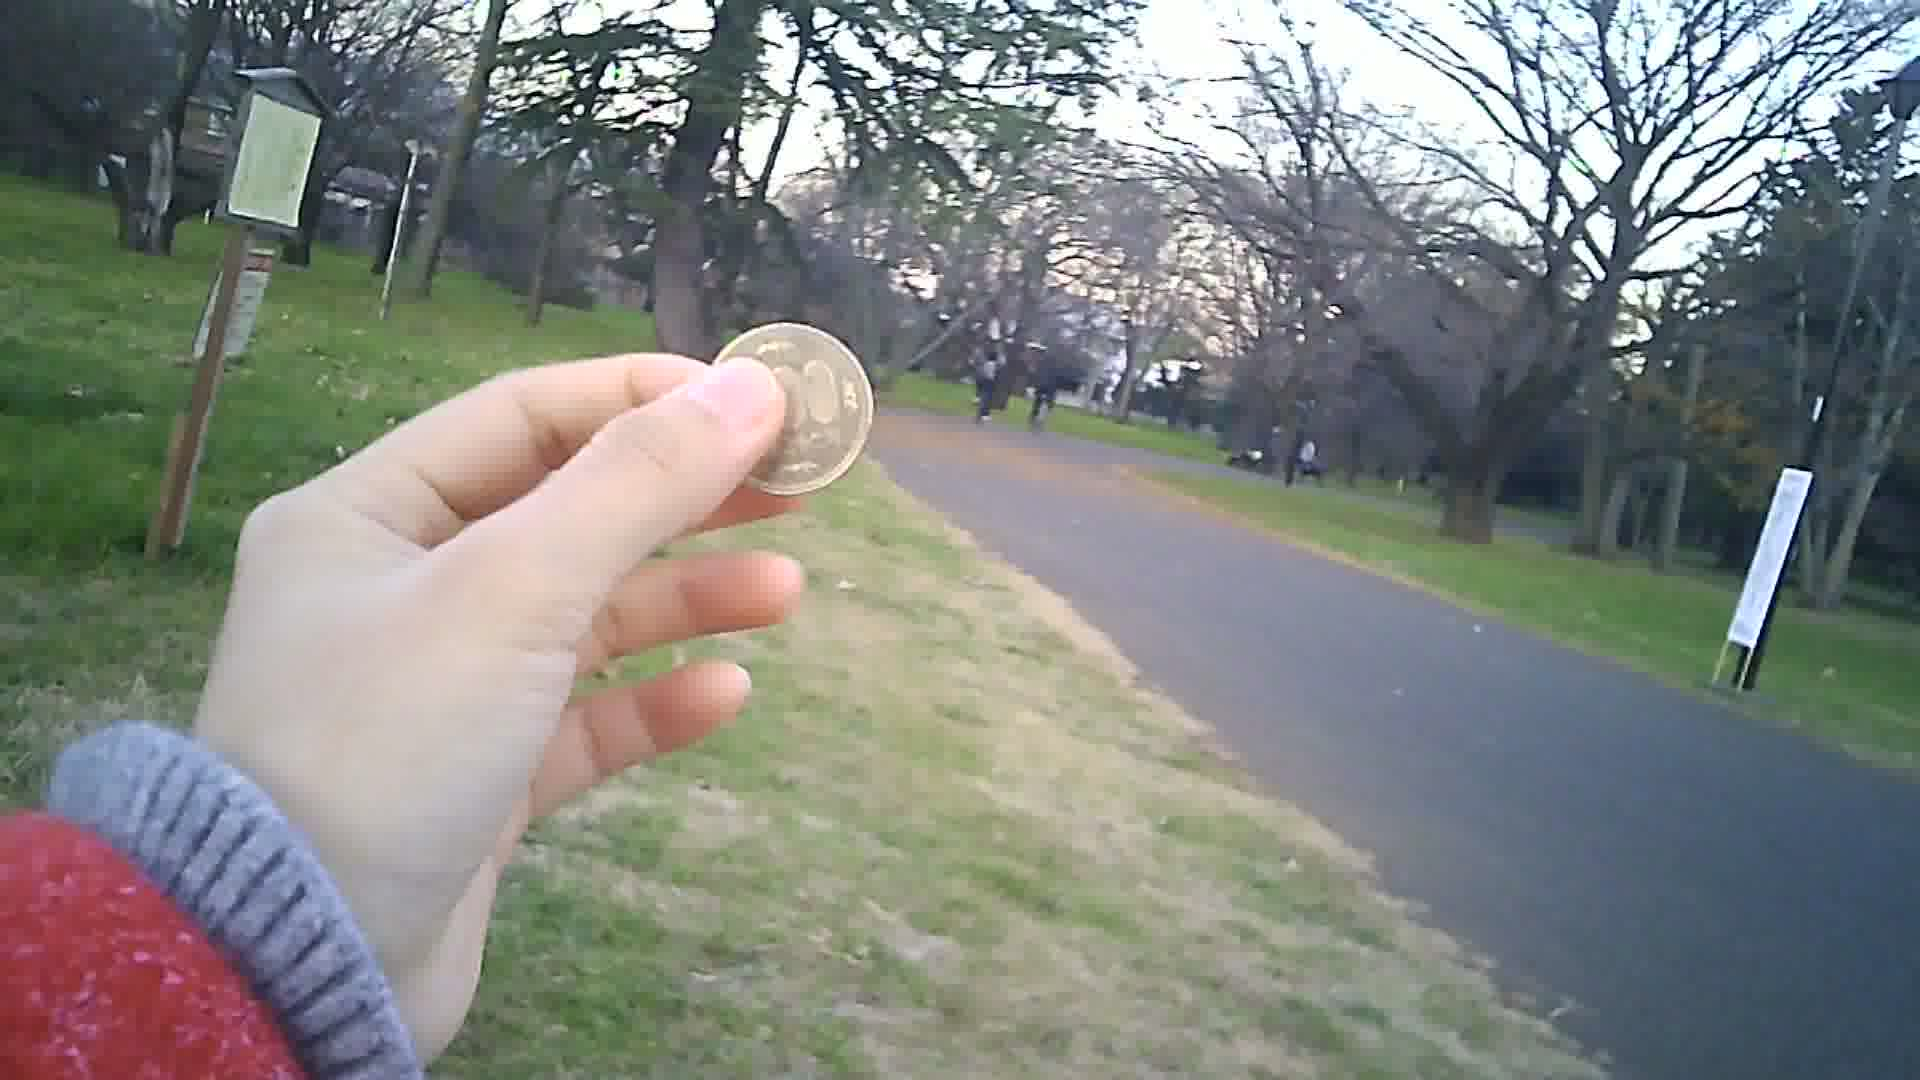500 Yen: (700, 309, 884, 496)
